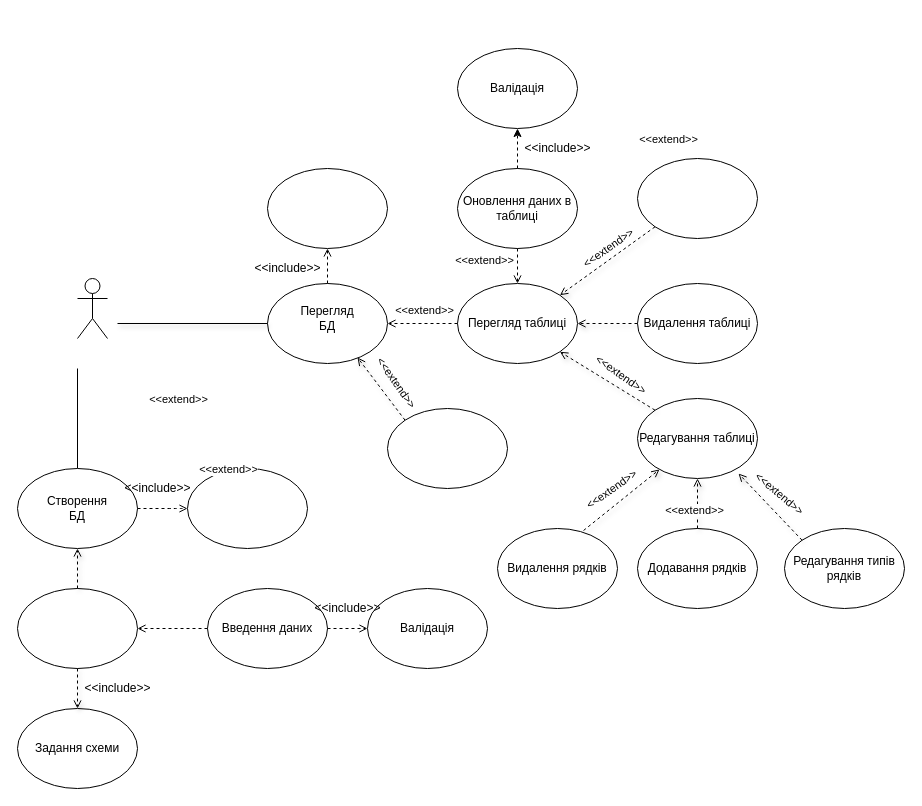
This 922x806 diagram has some shape labels left out. The centre of each missing label's shape, as x and y in pixels:
Actor: point (92, 308)
Додавання таблиці: point (447, 448)
Збереження на диску: point (247, 508)
Зчитування з диску: point (327, 208)
Сортування таблиці за полем: point (697, 198)
Створення таблиці: point (77, 628)
